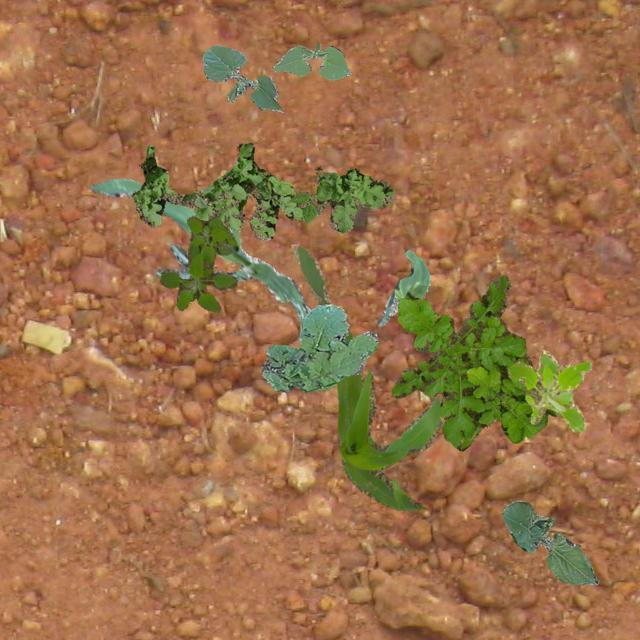crop: (292, 245, 442, 510), (90, 178, 310, 340), (500, 499, 598, 584), (202, 44, 280, 110), (376, 248, 430, 326), (272, 42, 350, 80)
weed: (391, 274, 558, 450), (132, 142, 392, 240), (260, 304, 376, 392), (158, 214, 236, 310), (508, 348, 590, 432)
